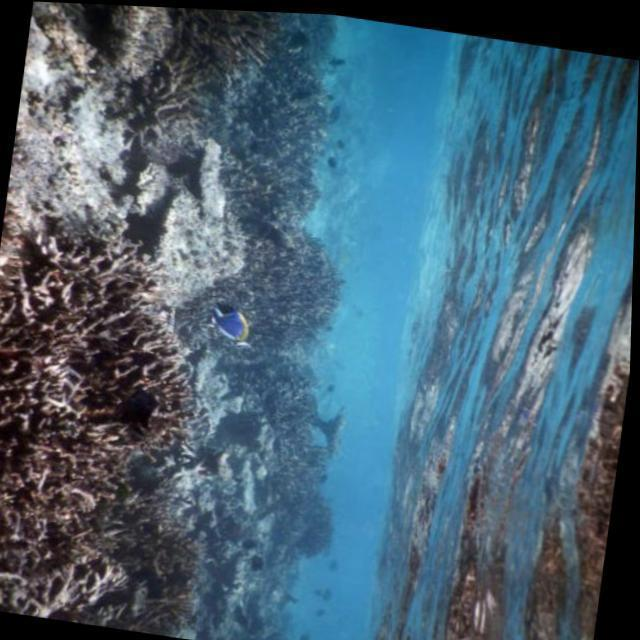Dead Coral: (0, 6, 240, 318), (0, 221, 189, 601)
